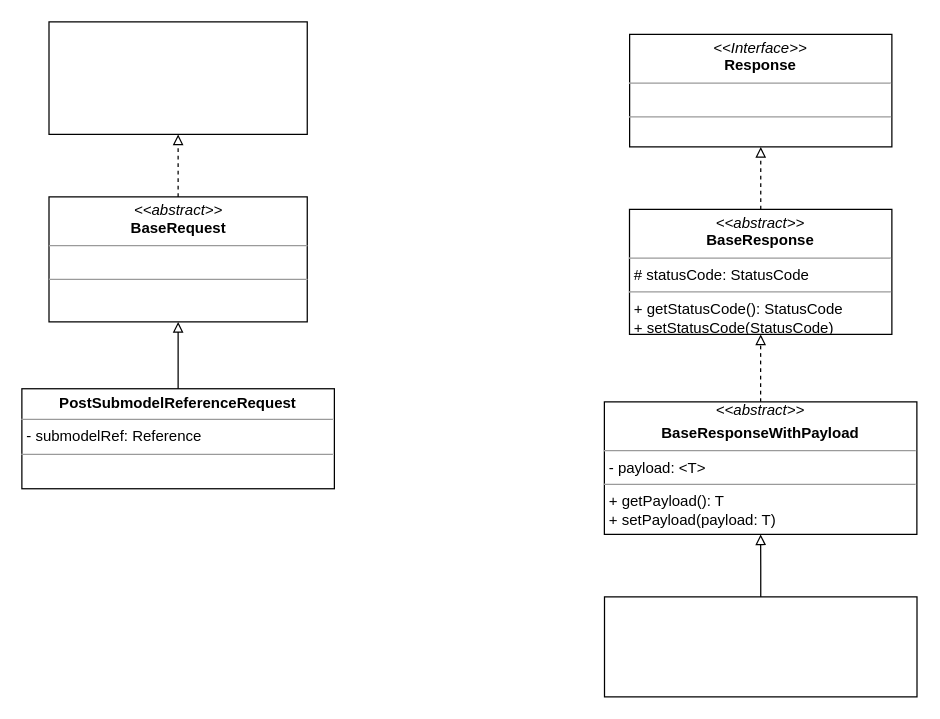
This 940x719 diagram has some shape labels left out. Here are the shapes that lost their labels. From the top down, the centre of each, then its label:
At pixel 177 77: "<<Interface>> Request".
At pixel 760 646: "PostSubmodelReferenceResponse - payload: Reference".
